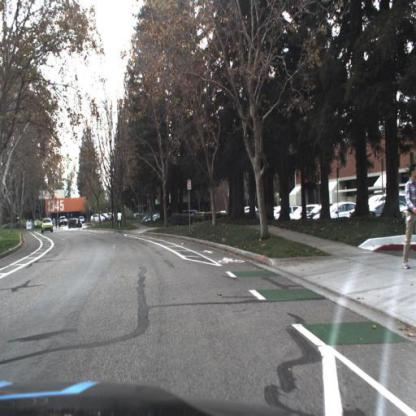biker: (116, 210, 124, 236)
car: (330, 198, 351, 221), (42, 219, 54, 235), (69, 219, 83, 229)
pedestrian: (404, 163, 416, 272), (168, 206, 174, 226)
